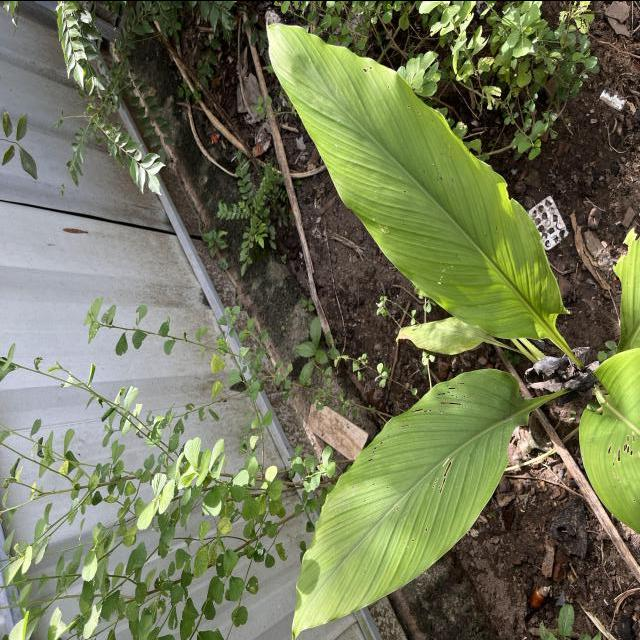Curcuma longa: (262, 18, 568, 344), (290, 364, 536, 640)
